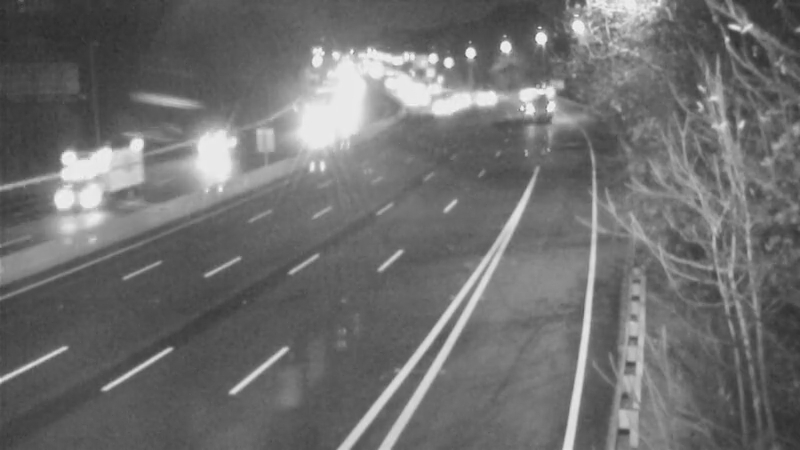vehicle: (37, 156, 117, 236), (454, 61, 504, 111), (435, 69, 485, 119), (414, 78, 464, 128), (510, 65, 560, 115), (183, 124, 233, 174), (291, 96, 341, 146)
